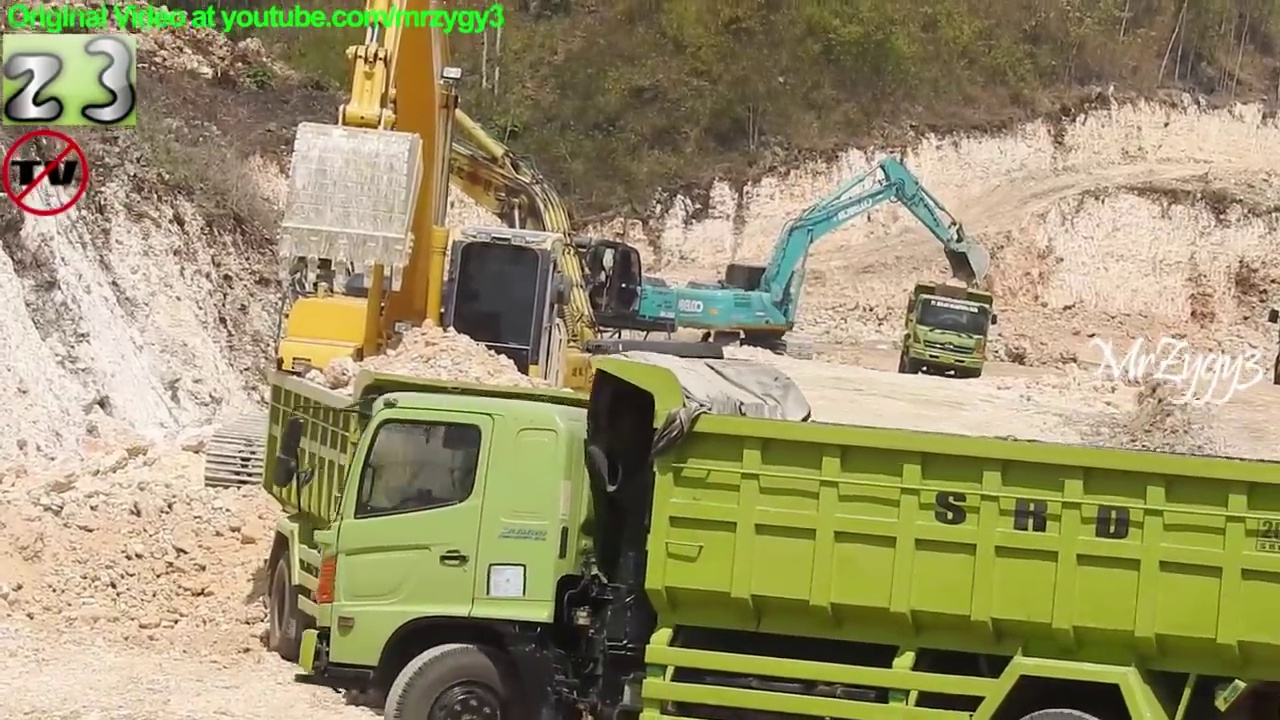excavator: (199, 1, 600, 505), (289, 71, 723, 493), (409, 143, 688, 392), (672, 154, 992, 365)
truck: (309, 354, 1278, 720), (258, 347, 706, 692), (896, 279, 995, 385)
